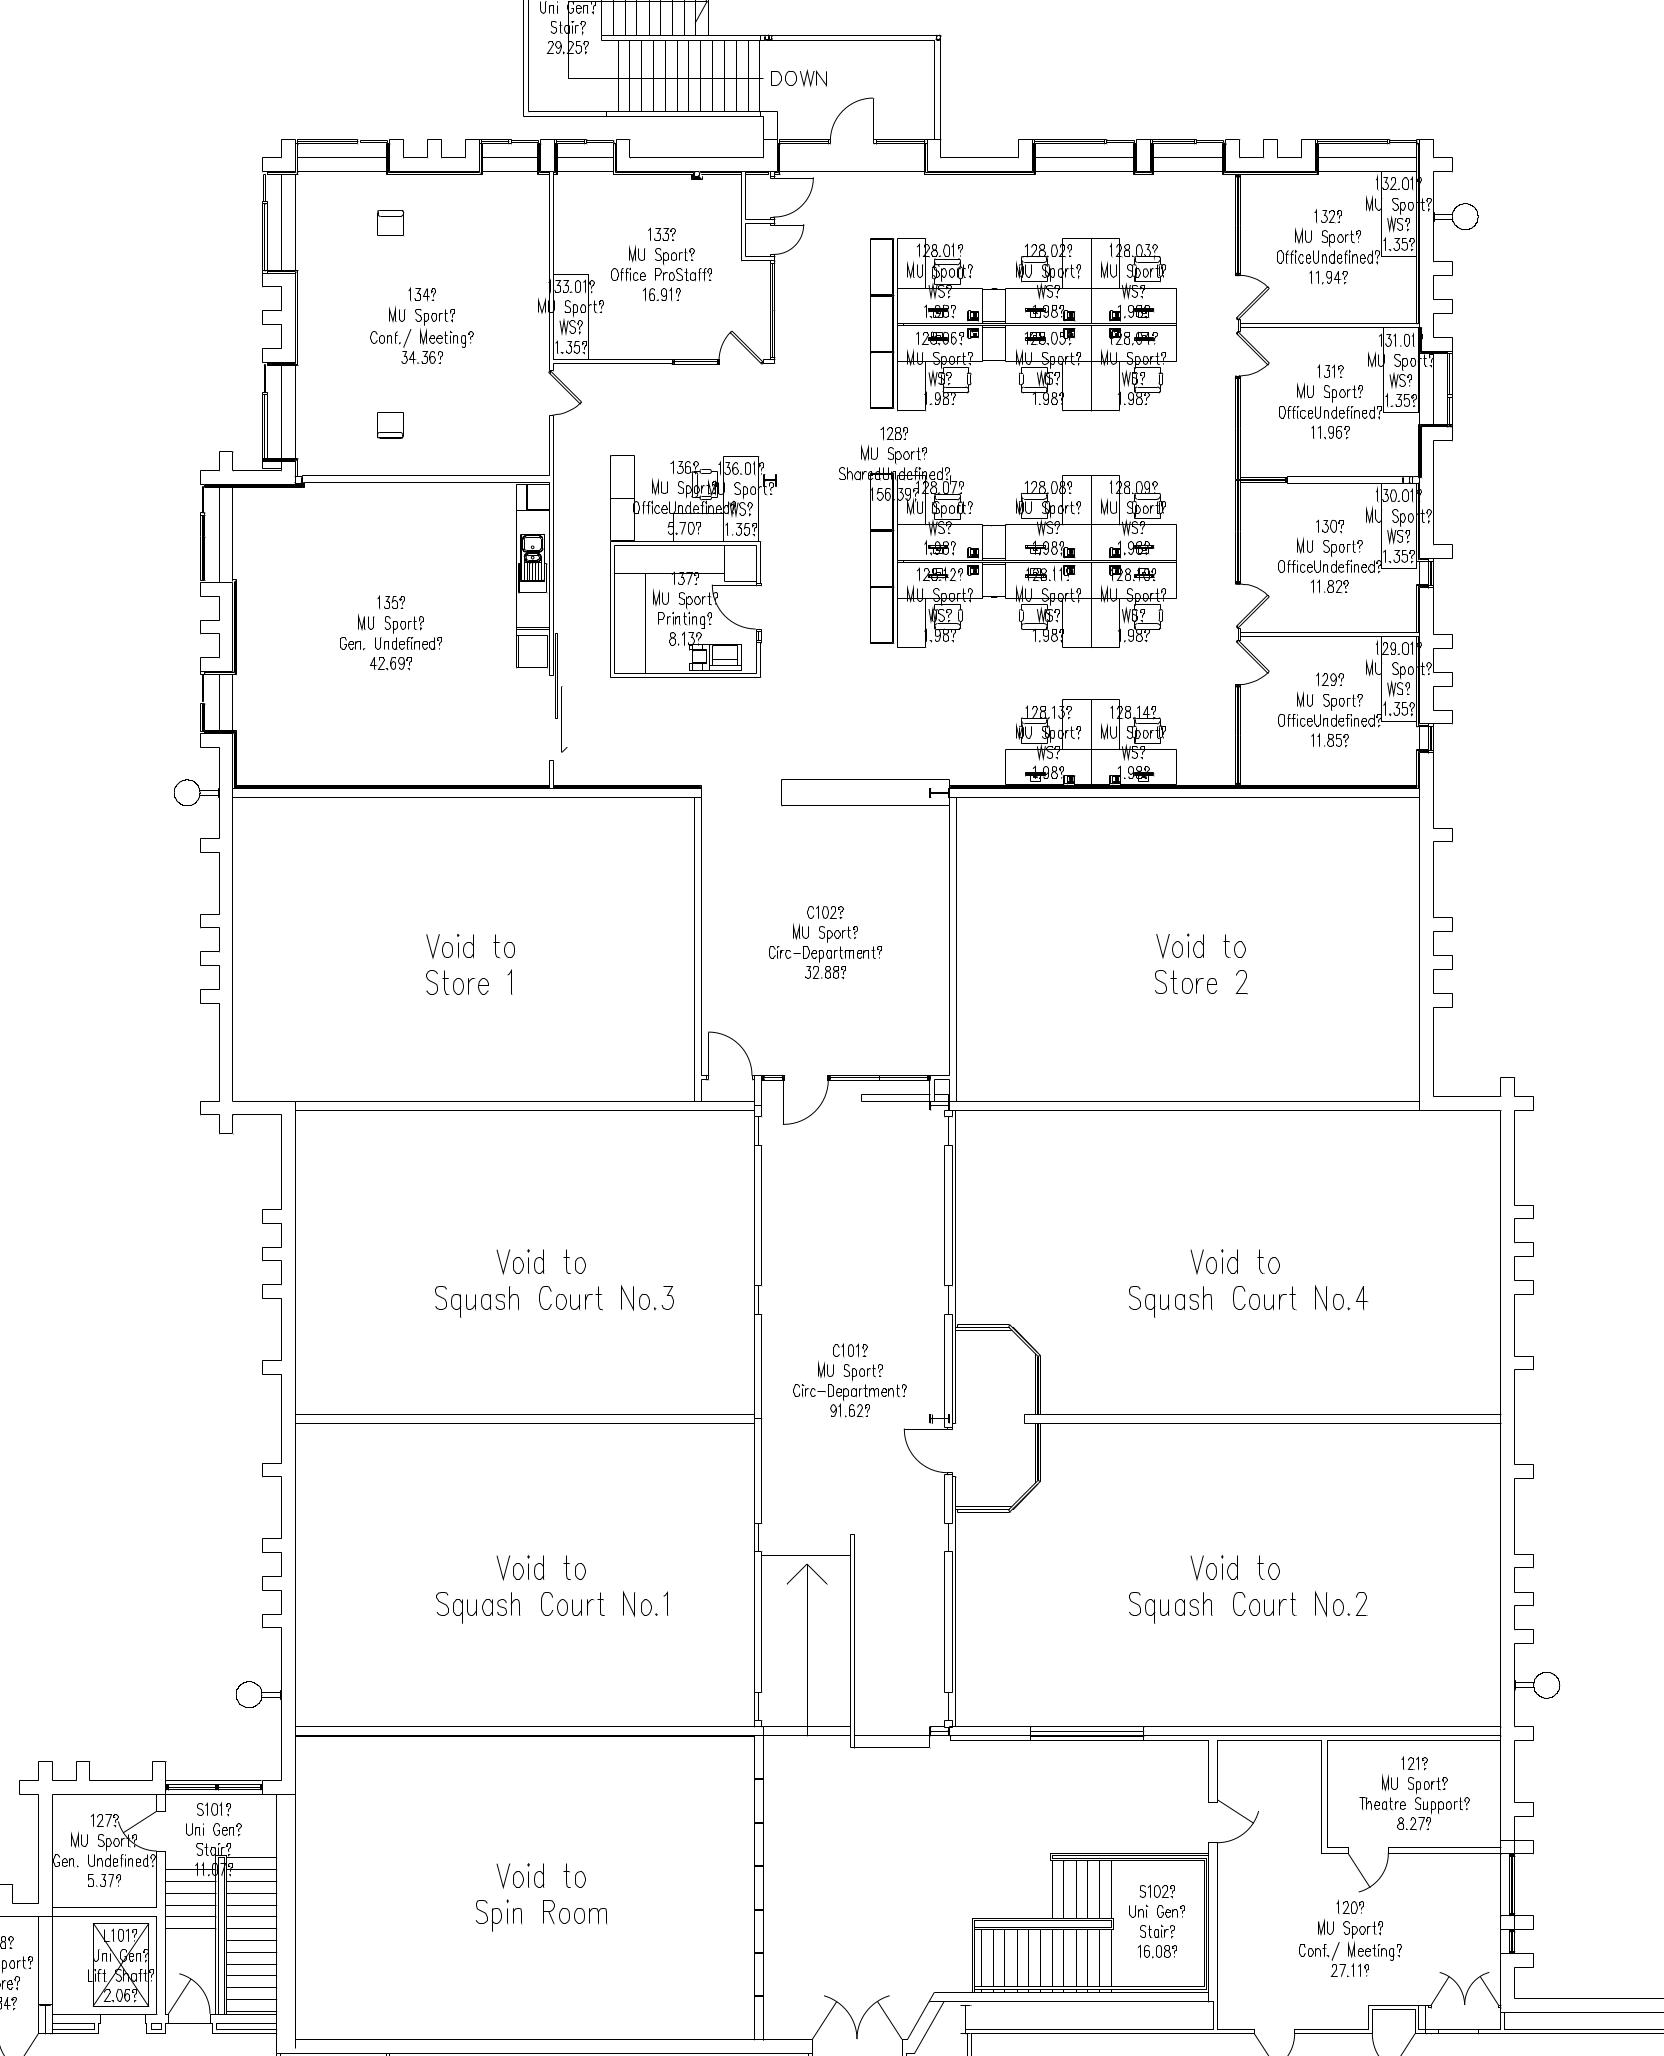text: (881, 238, 1173, 409), (895, 480, 1175, 643), (372, 1231, 701, 1328), (406, 1538, 683, 1642), (1109, 1547, 1380, 1630), (1127, 1246, 1380, 1326), (445, 1849, 625, 1951), (1285, 326, 1421, 447), (1129, 908, 1275, 1019), (1275, 170, 1409, 287), (1279, 503, 1418, 608), (1005, 699, 1177, 781), (632, 455, 773, 542), (365, 275, 491, 372), (788, 1334, 914, 1428), (336, 584, 447, 686), (604, 216, 718, 309), (774, 895, 891, 980), (1362, 1749, 1476, 1835), (51, 1805, 161, 1891), (1280, 655, 1375, 756), (413, 924, 525, 1007), (1112, 1873, 1200, 1969), (1302, 1895, 1403, 1980), (642, 564, 727, 649), (83, 1922, 161, 2008), (183, 1793, 250, 1885), (540, 2, 601, 66)
